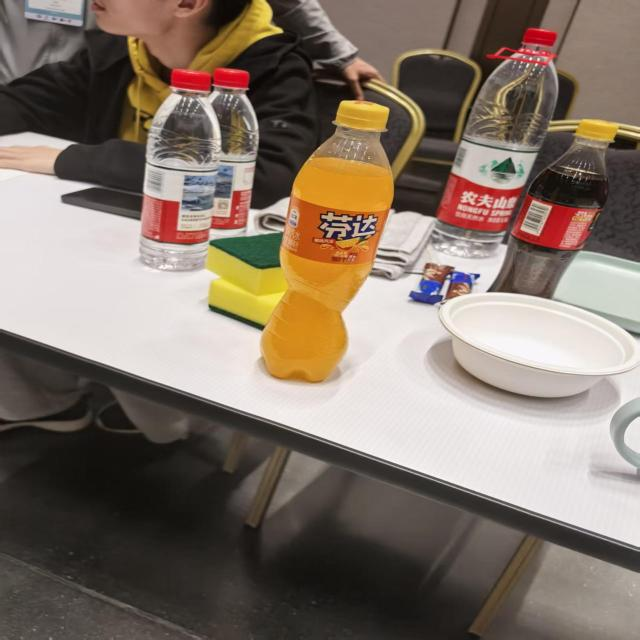orange: (312, 208, 380, 268)
